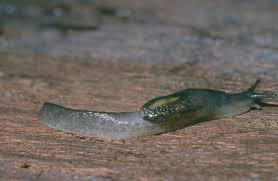slug: (44, 77, 276, 138)
